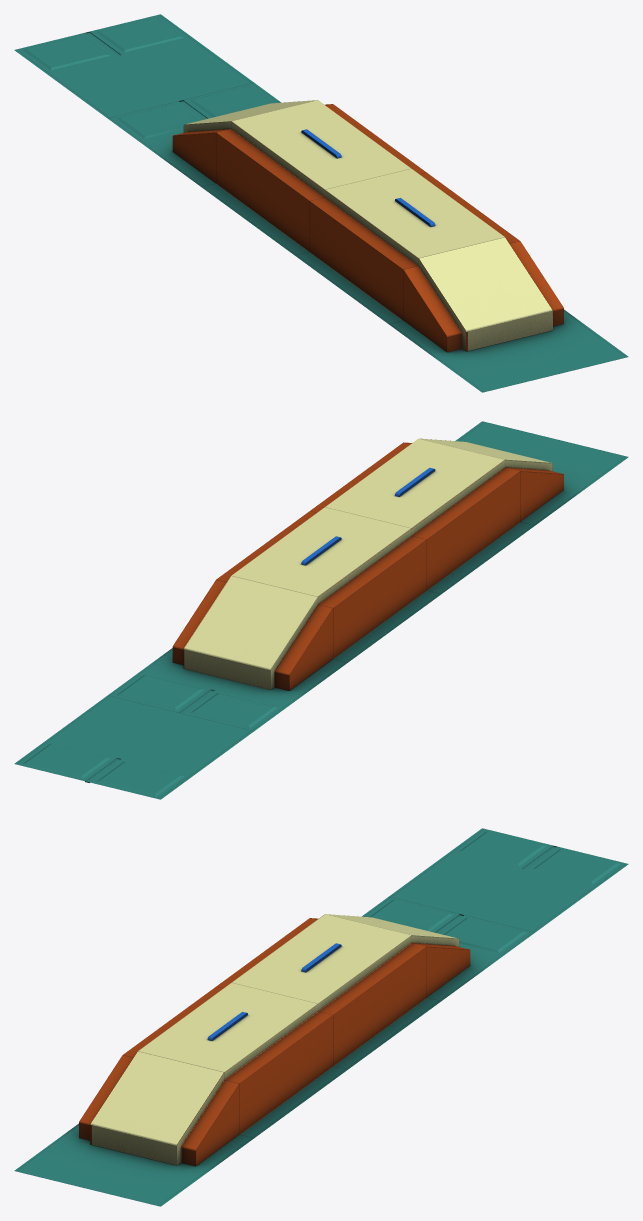
Rendered from sc_lvl1_floortile_04.FBX.
3 renders of one model, top to bottom at view 1: azimuth 30°, elevation 25°; view 2: azimuth 150°, elevation 25°; view 3: azimuth 330°, elevation 25°, orthographic.
Parts seen in each view (by area): view 1: sc_lvl1_floortile_04; view 2: sc_lvl1_floortile_04; view 3: sc_lvl1_floortile_04.
Boxes of the visible parts, left/top/right/bottom form: sc_lvl1_floortile_04: left=14, top=14, right=628, bottom=392; sc_lvl1_floortile_04: left=14, top=421, right=628, bottom=799; sc_lvl1_floortile_04: left=14, top=828, right=628, bottom=1206.
Size of the model in its own units: 18.1 by 7.32 by 100.
